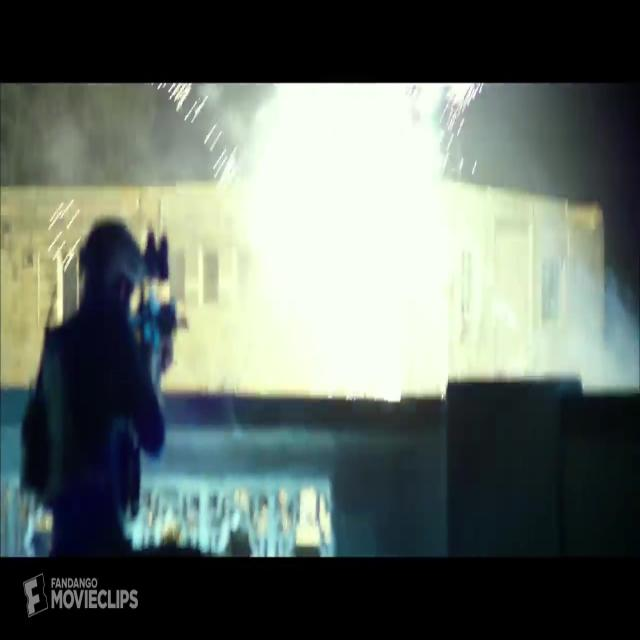Weapon: (140, 280, 220, 408)
